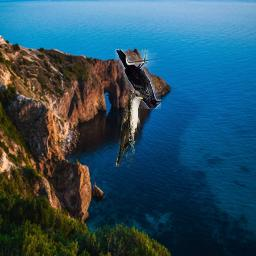Crow: (115, 49, 161, 109)
Cuckoo: (115, 91, 144, 168)
